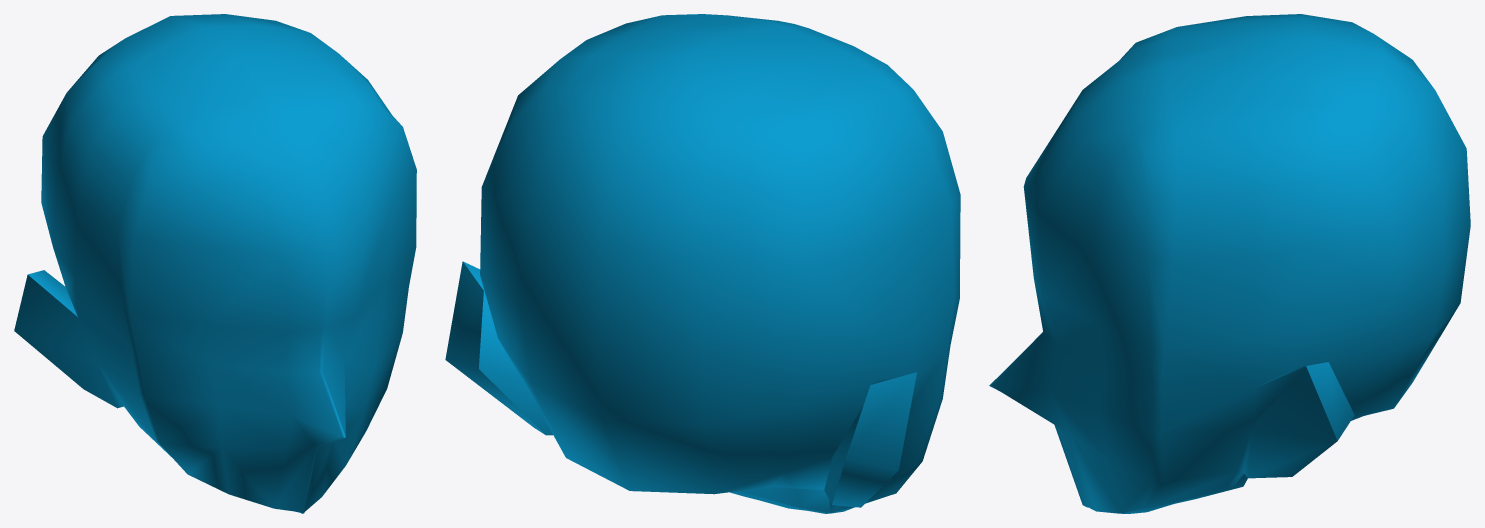
Rendered from kohakuhead_normal2.fbx.
3 views of the same model, side by side, from view 1: azimuth 30°, elevation 25°; view 2: azimuth 150°, elevation 25°; view 3: azimuth 270°, elevation 25° (orthographic). The views are drawn at different scales.
Visible parts, largest first — view 1: headNormal; view 2: headNormal; view 3: headNormal.
Part boxes in pixels (bbox=[...]): headNormal: bbox=[14, 14, 416, 513]; headNormal: bbox=[445, 14, 960, 513]; headNormal: bbox=[989, 14, 1470, 513].
Bounding box in the file's own units: 19.17 × 21.43 × 19.93.
